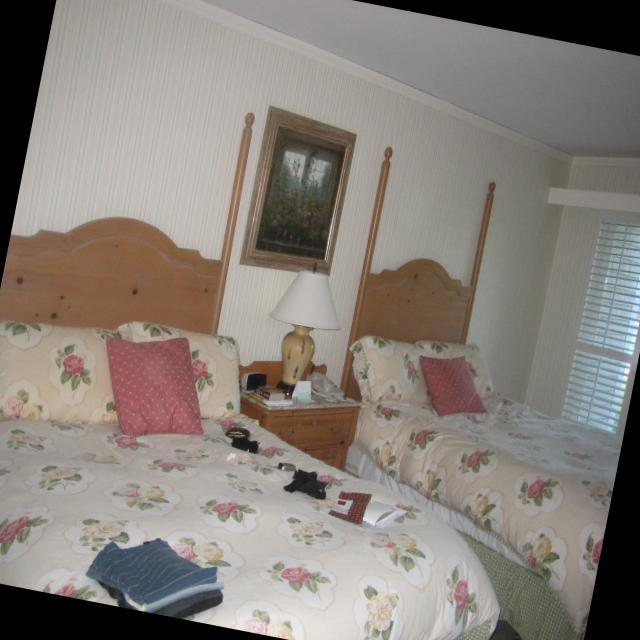alarm: (240, 372, 267, 390)
bed -occluded-: (0, 416, 498, 640)
ceiling beam: (199, 0, 640, 158)
cellphone: (272, 462, 298, 471)
lamp crop: (269, 274, 342, 395)
painting crop: (238, 105, 357, 276)
papers: (327, 491, 411, 527)
pillow occluded: (0, 321, 144, 424), (118, 323, 241, 417), (104, 337, 206, 440), (349, 337, 441, 406), (417, 340, 495, 401), (419, 355, 488, 421)
socks: (285, 469, 331, 499)
telephone booth: (307, 373, 344, 404)
towels: (87, 538, 226, 617)
